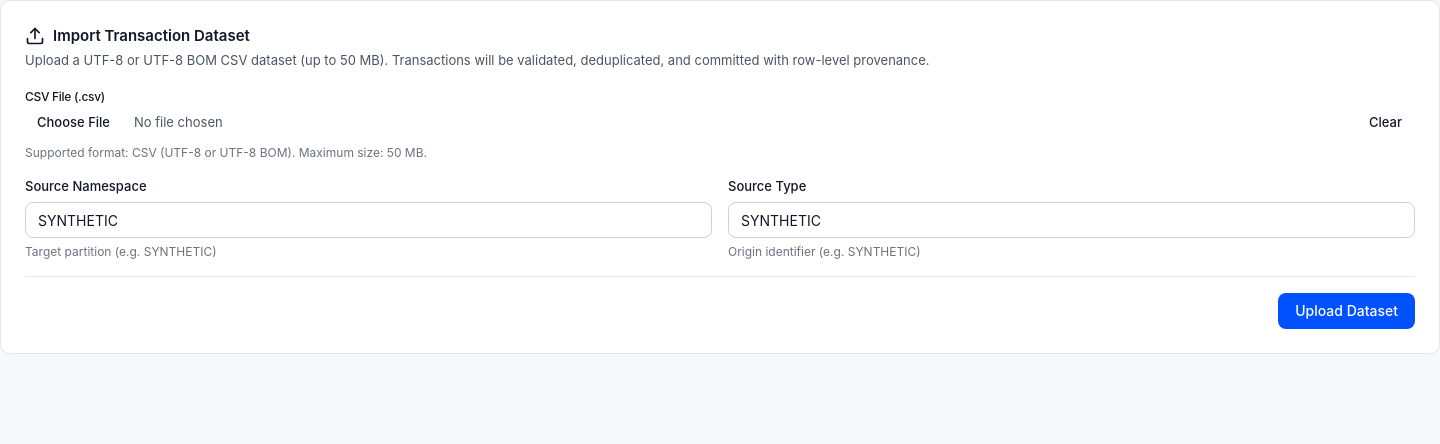
Test: DatasetUploadCard component (F4.4) › handles 200 duplicate file detection response
Earlier steps of the test are not shown.
Click the button "Upload Dataset": (1347, 311) [1278, 293, 1415, 329]
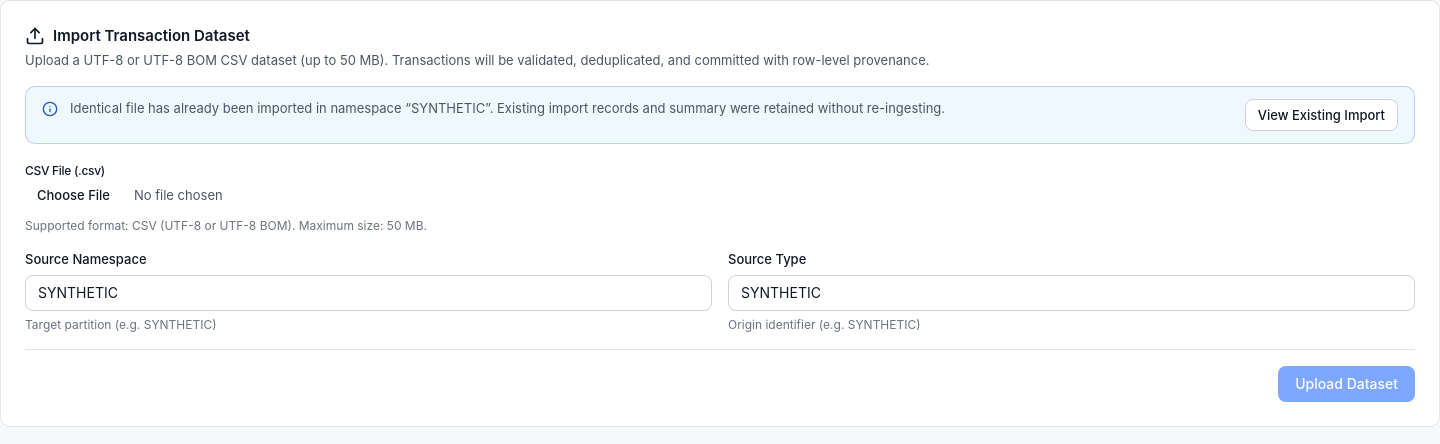
Result: the message named "duplicate upload notice" is shown at [25, 86, 1415, 144]
Result: the text "Identical file has already been imported" is shown at [70, 100, 411, 116]
